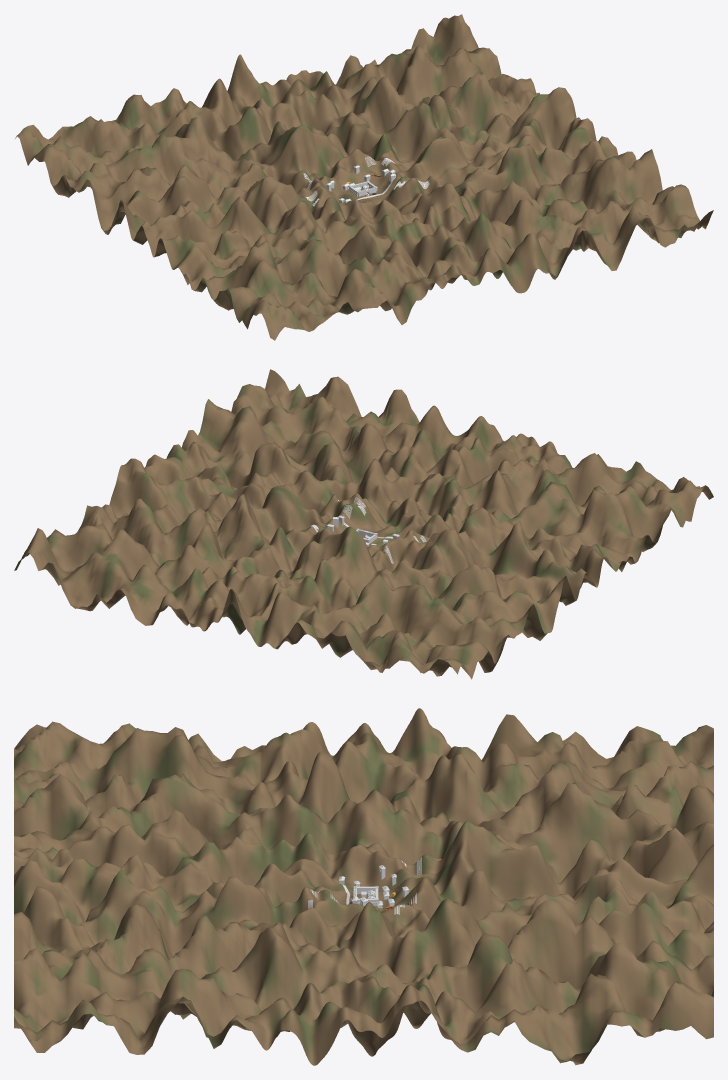
Rendered from jiangtai.glb.
3 views of the same model, one above another, from view 1: azimuth 30°, elevation 25°; view 2: azimuth 150°, elevation 25°; view 3: azimuth 270°, elevation 25° (orthographic). The views are drawn at different scales.
Visible parts, largest first — view 1: Continuous terrain; view 2: Continuous terrain; view 3: Continuous terrain.
Part boxes in pixels (left/top/right/bottom): Continuous terrain: left=15, top=14, right=713, bottom=340; Continuous terrain: left=14, top=369, right=713, bottom=679; Continuous terrain: left=14, top=708, right=713, bottom=1065.
Bounding box in the file's own units: 648 × 111 × 648.
Materials: 77 (59 with a texture image).
